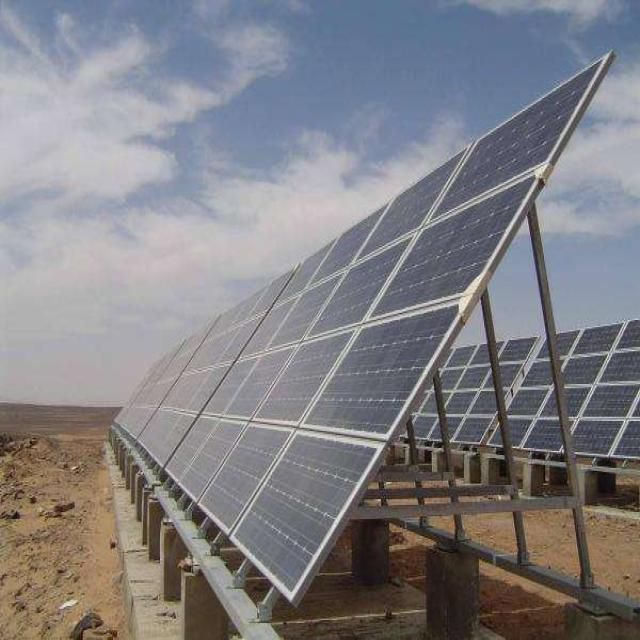clean-solar-panel: (118, 54, 612, 602)
